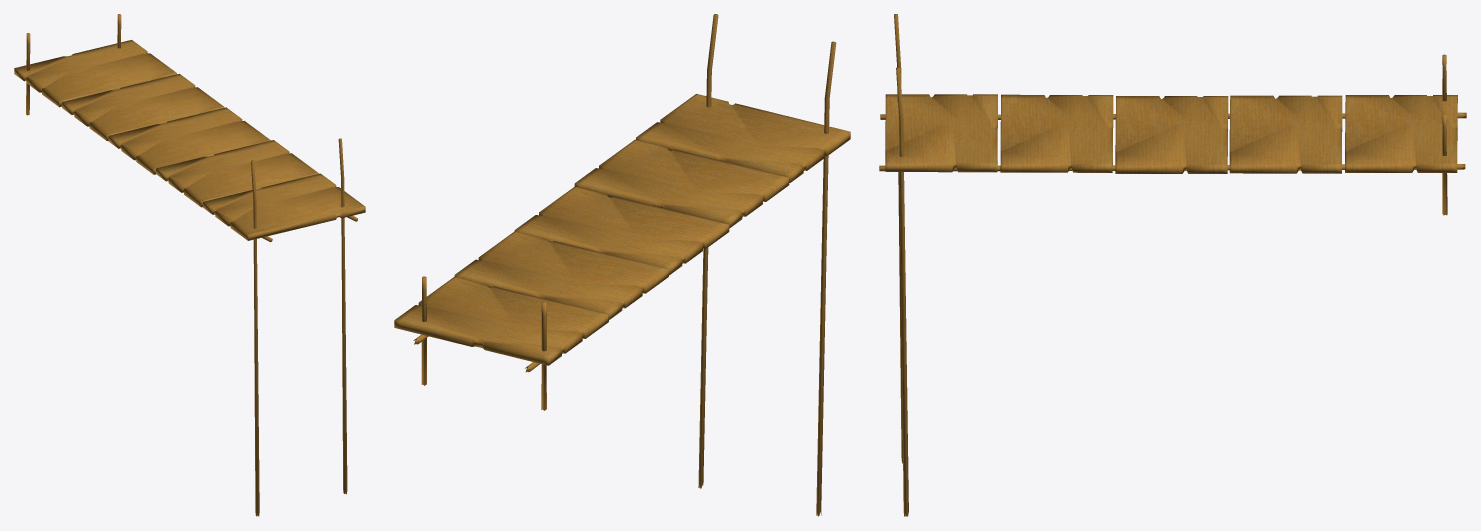
Rendered from GaKoroDock.fbx.
The picture shows the model from 3 angles, left to right: view 1: azimuth 30°, elevation 25°; view 2: azimuth 150°, elevation 25°; view 3: azimuth 270°, elevation 25°; orthographic projection. The views are drawn at different scales.
Visible parts, largest first — view 1: Cube_246, Cube_001, Cube_000, Cube_245, Cube_244, Cube_248, Cube_002; view 2: Cube_001, Cube_245, Cube_246, Cube_000, Cube_244, Cube_002, Cube_248, Cube_003; view 3: Cube_000, Cube_245, Cube_244, Cube_246, Cube_001, Cube_248, Cube_002.
Part boxes in pixels (box(x1,y1,x2,y2)): Cube_246: box(203, 173, 365, 240); Cube_001: box(14, 40, 176, 107); Cube_000: box(62, 73, 224, 141); Cube_245: box(156, 140, 318, 207); Cube_244: box(108, 107, 270, 174); Cube_248: box(338, 138, 347, 494); Cube_002: box(251, 160, 259, 516); Cube_001: box(394, 276, 608, 365); Cube_245: box(574, 139, 789, 228); Cube_246: box(636, 94, 850, 182); Cube_000: box(454, 231, 668, 319); Cube_244: box(514, 186, 729, 275); Cube_002: box(816, 41, 836, 516); Cube_248: box(698, 14, 718, 488); Cube_003: box(541, 301, 546, 410); Cube_000: box(1229, 95, 1342, 173); Cube_245: box(1000, 94, 1113, 172); Cube_244: box(1115, 96, 1228, 173); Cube_246: box(885, 94, 997, 172); Cube_001: box(1345, 95, 1457, 172); Cube_248: box(896, 67, 908, 516); Cube_002: box(894, 14, 902, 463).
Size of the model in its own units: 0.3785 by 1.08 by 1.3.
